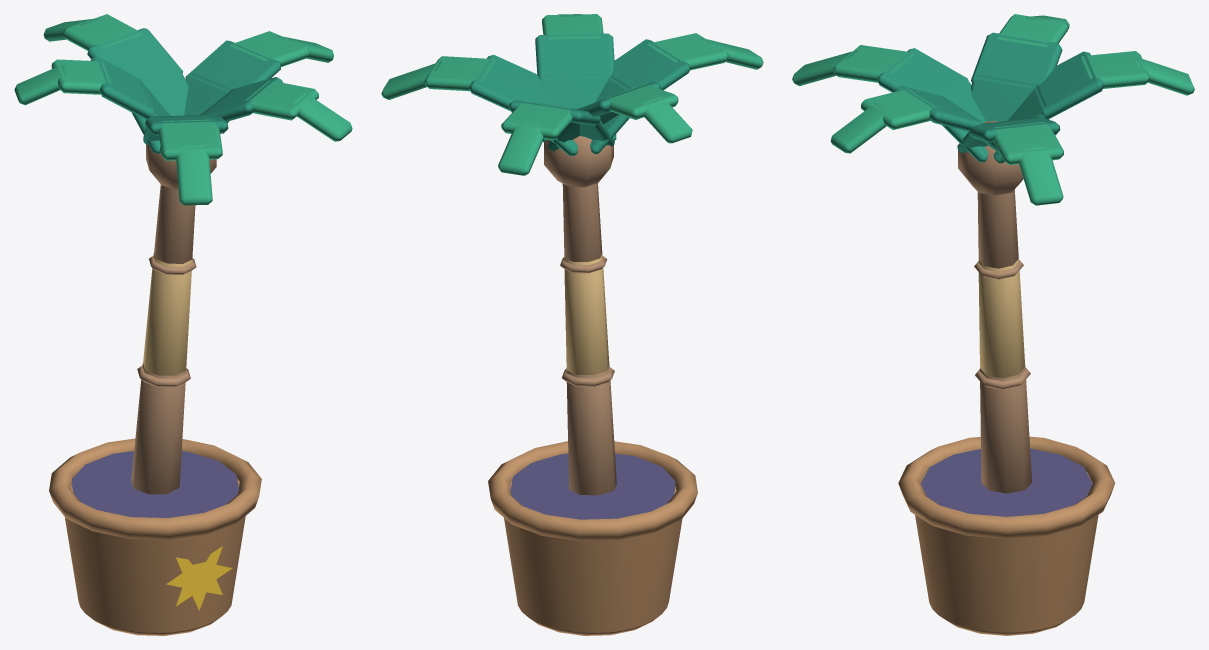
File: potted_palm.glb
3 renders of one model, left to right at view 1: azimuth 30°, elevation 25°; view 2: azimuth 150°, elevation 25°; view 3: azimuth 270°, elevation 25°, orthographic. The views are drawn at different scales.
Parts seen in each view (by area): view 1: Palm; view 2: Palm; view 3: Palm.
Boxes of the visible parts, box(x1,y1,x2,y2) form: Palm: box(14, 14, 352, 635); Palm: box(381, 14, 763, 635); Palm: box(792, 14, 1194, 635).
Size of the model in its own units: 0.9353 by 1.56 by 1.03.
